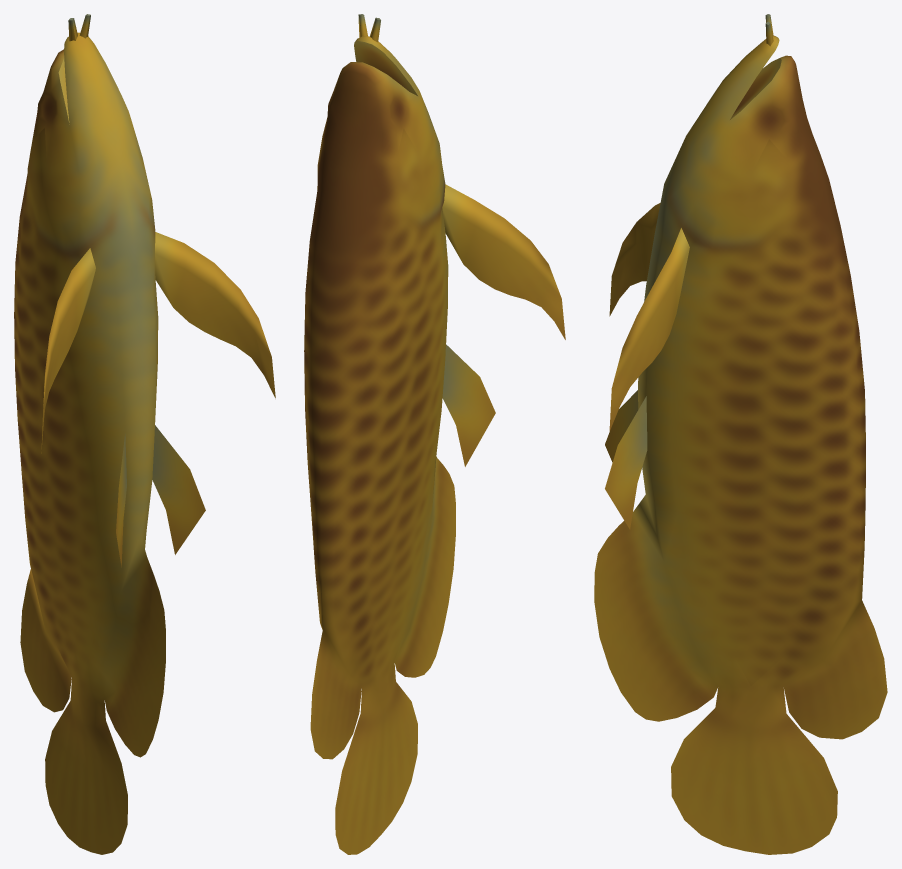
The model's file is golden-arowana.glb.
3 views of the same model, side by side, from view 1: azimuth 30°, elevation 25°; view 2: azimuth 150°, elevation 25°; view 3: azimuth 270°, elevation 25° (orthographic).
Parts seen in each view (by area): view 1: FishArowana1__mArowana; view 2: FishArowana1__mArowana; view 3: FishArowana1__mArowana.
Part boxes in pixels (left/top/right/bottom): FishArowana1__mArowana: left=14, top=14, right=275, bottom=854; FishArowana1__mArowana: left=304, top=14, right=565, bottom=854; FishArowana1__mArowana: left=594, top=14, right=887, bottom=854.
Size of the model in its own units: 0.2855 by 0.9663 by 0.307.
1 material, 1 textured.
